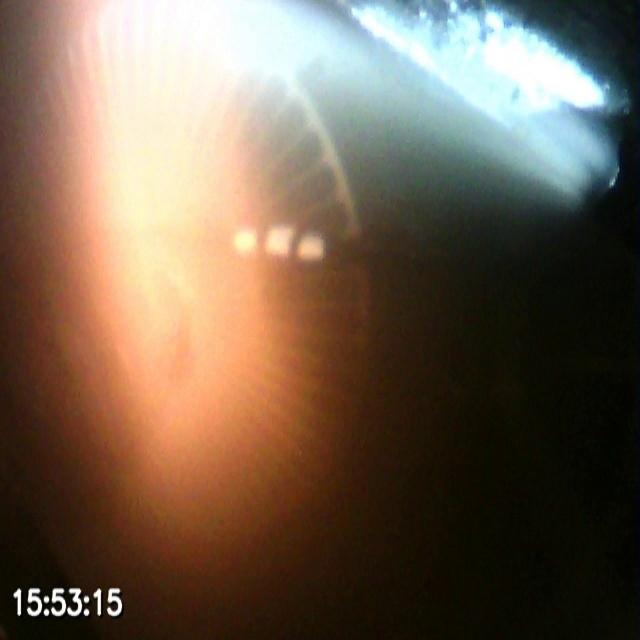white-dots: (230, 223, 328, 264)
